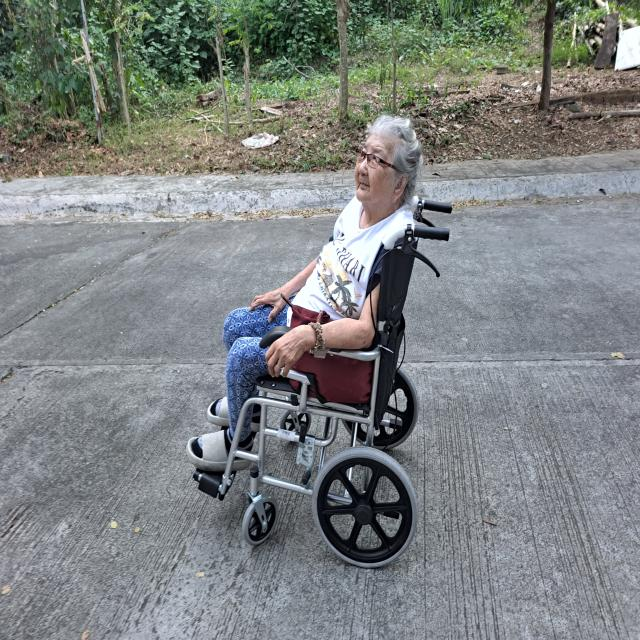wheelchairs: (186, 191, 457, 578)
